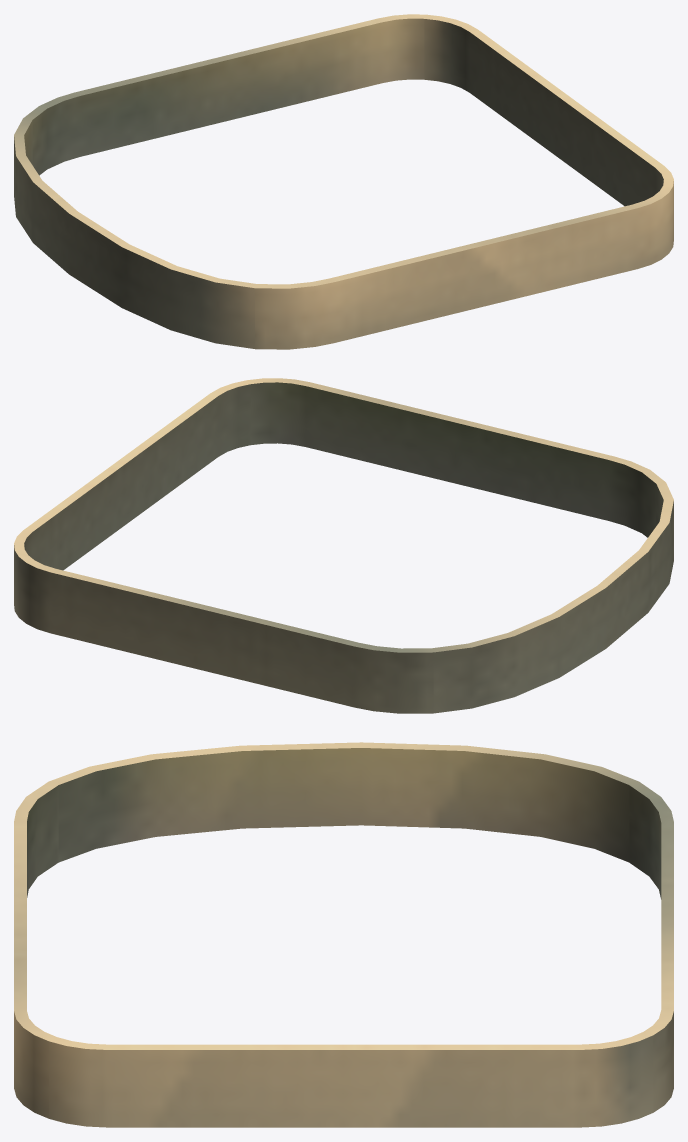
The model's file is Smallgarden.obj.
3 views of the same model, one above another, from view 1: azimuth 30°, elevation 25°; view 2: azimuth 150°, elevation 25°; view 3: azimuth 270°, elevation 25° (orthographic). The views are drawn at different scales.
Visible parts, largest first — view 1: Smallgarden; view 2: Smallgarden; view 3: Smallgarden.
Part boxes in pixels (left/top/right/bottom): Smallgarden: left=14, top=14, right=673, bottom=349; Smallgarden: left=14, top=378, right=673, bottom=713; Smallgarden: left=14, top=742, right=673, bottom=1127.
Bounding box in the file's own units: 12.72 × 1.49 × 11.53.
Materials: 1 (1 with a texture image).
